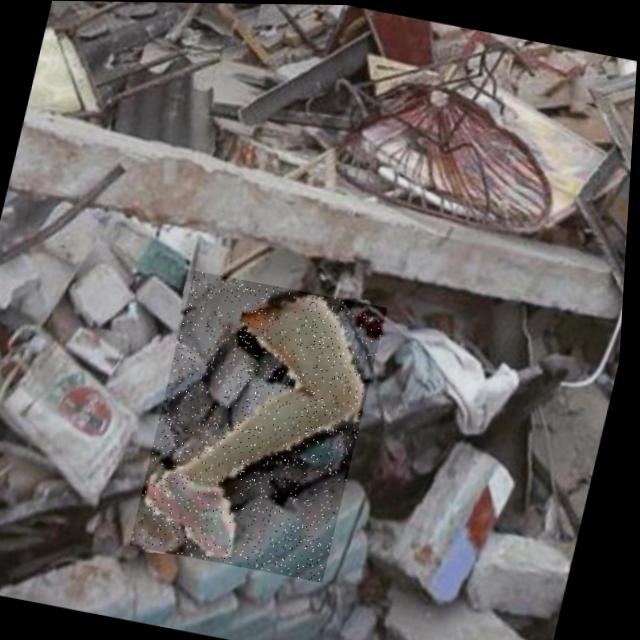Person in Rubble: (134, 269, 392, 582)
